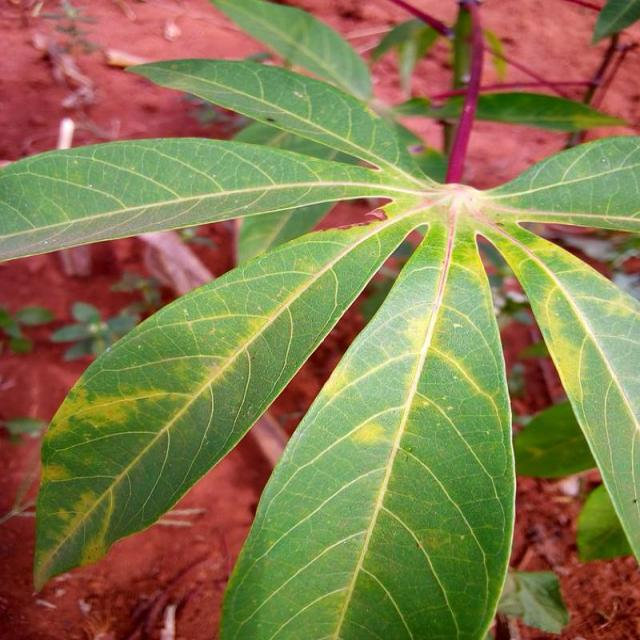cassava leaf: (4, 5, 639, 637), (32, 206, 431, 595), (218, 210, 518, 638)
